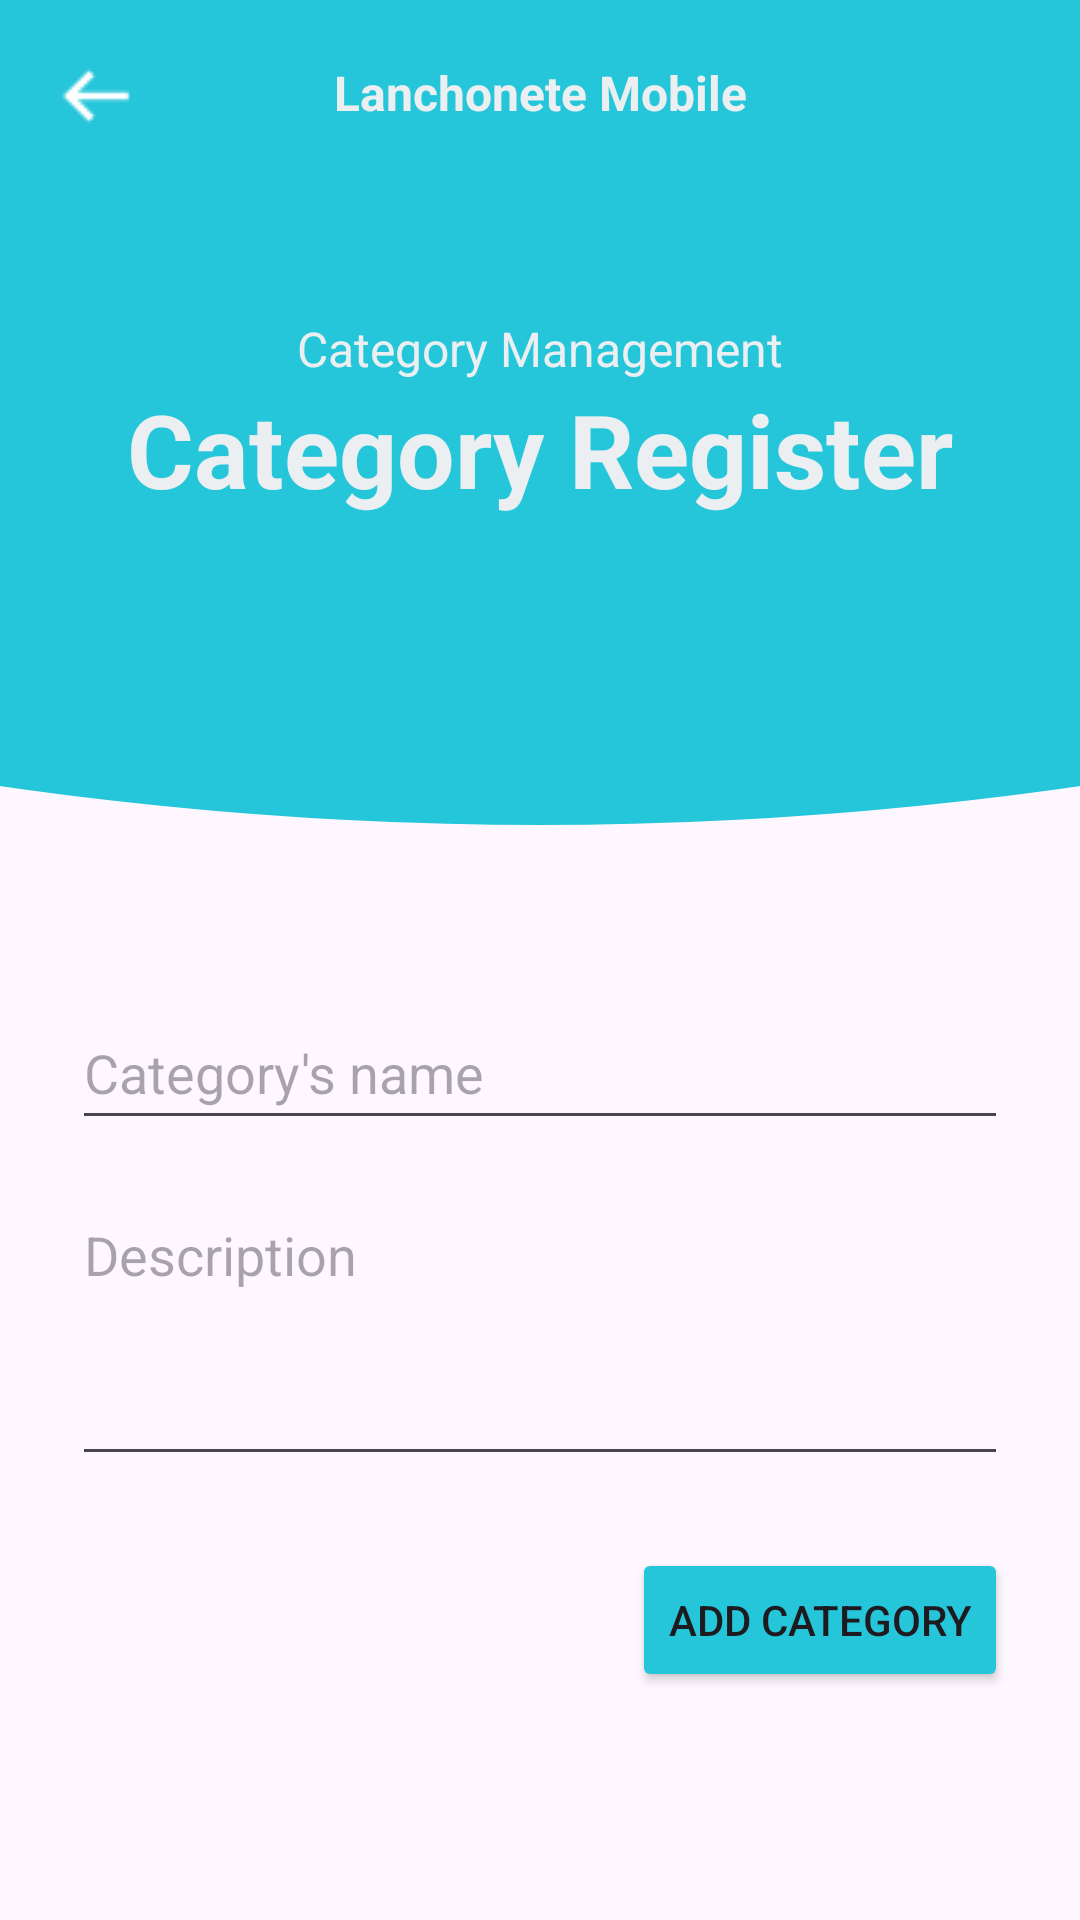

Icons on this 1080x1920 Android screen, each with its box as (x1, y1, x2, y2):
Back: (62, 69, 130, 123)
